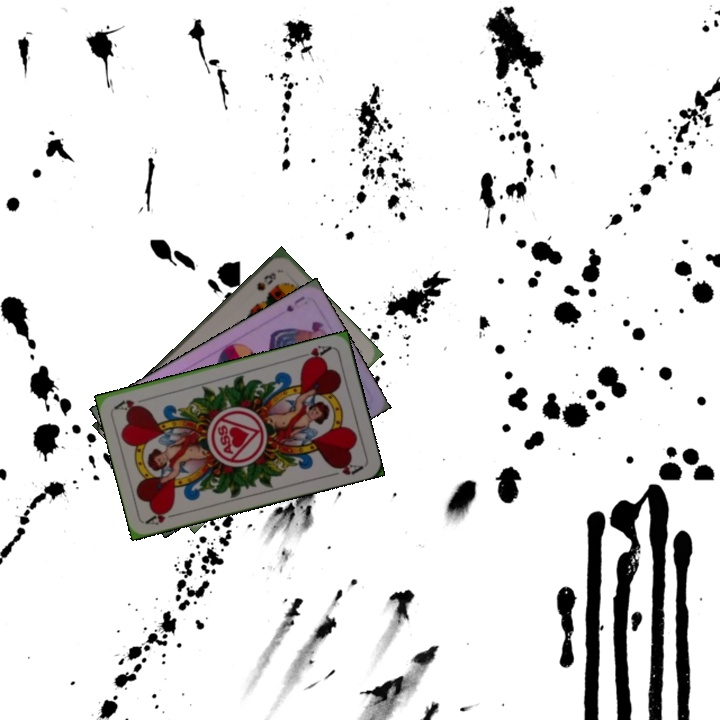HA: (294, 341, 334, 365), (143, 504, 183, 528)
S8: (252, 268, 279, 293)
SU: (282, 292, 308, 314)
